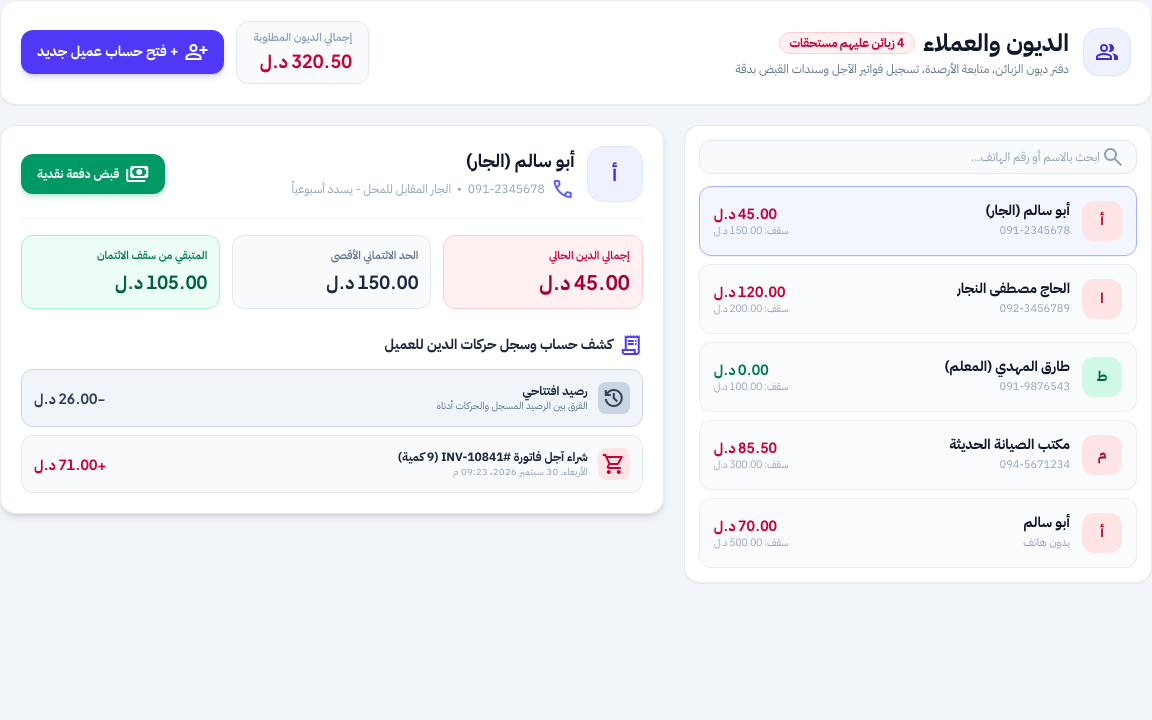
Test: DebtsView - customer statement › shows an opening balance so the movements reconcile with the card
The image size is (1152, 720).
Click the text "أبو سالم" at (1047, 523), box [1023,513,1070,533]
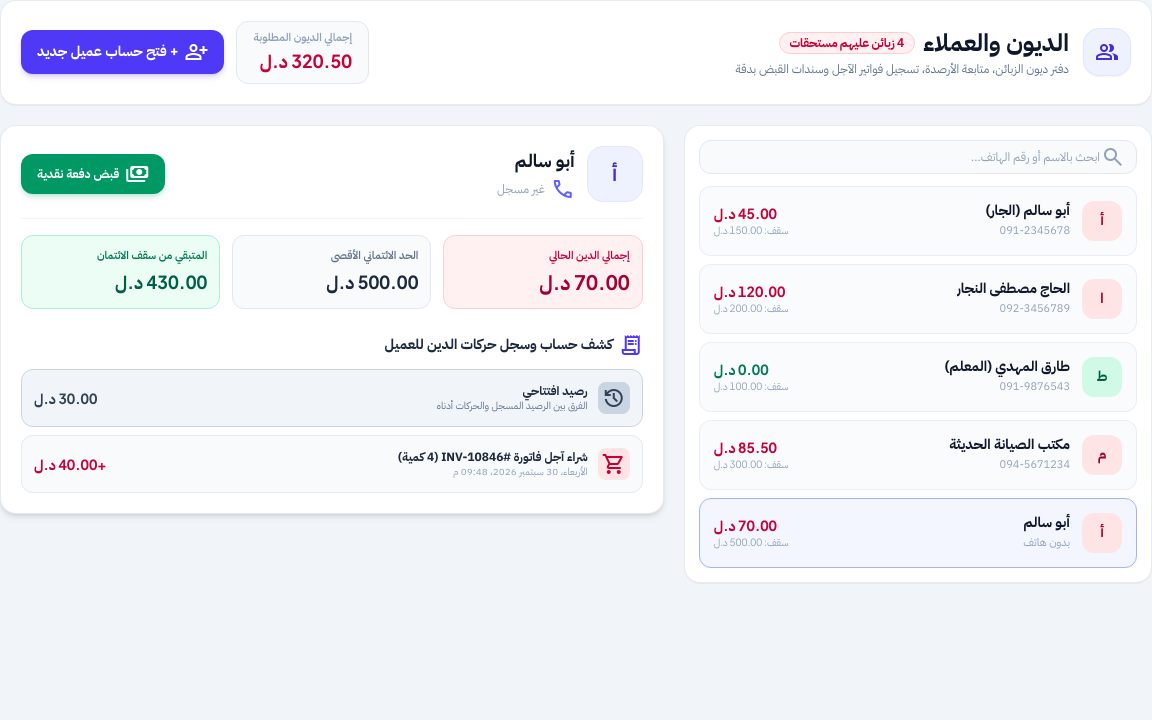
Expected: the text "رصيد افتتاحي" is shown, [522,382,588,400]
Now the text "30.00 د.ل" is shown, box [34,388,97,408]
